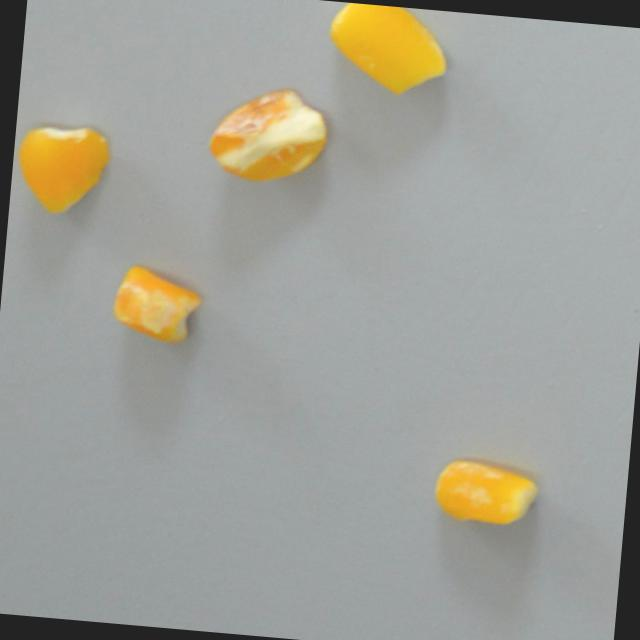dañado: (196, 77, 338, 192)
estandar: (325, 0, 452, 94), (9, 111, 112, 223)
pelicula: (429, 448, 543, 531), (104, 267, 207, 346)
